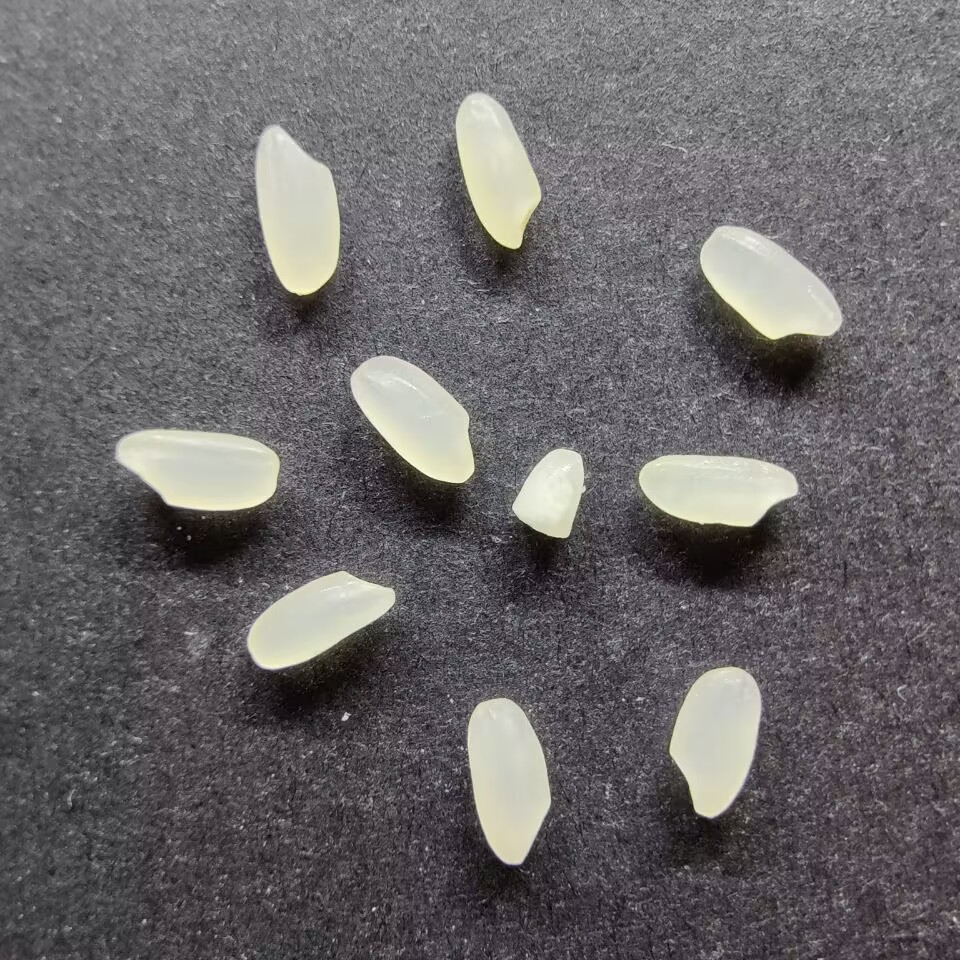broken: (509, 447, 586, 540)
rice: (698, 222, 844, 342), (347, 354, 477, 485), (244, 569, 397, 671), (253, 122, 342, 296), (666, 665, 763, 820), (465, 696, 552, 867), (113, 426, 281, 513), (453, 91, 543, 250), (636, 452, 799, 530)
